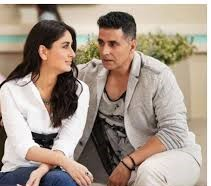Bad: (1, 11, 202, 186)
